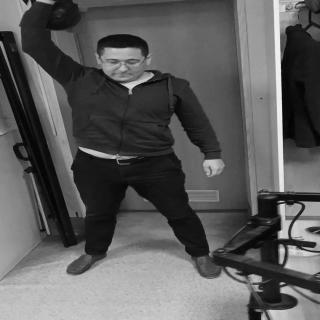kettlebell: (22, 1, 88, 33)
